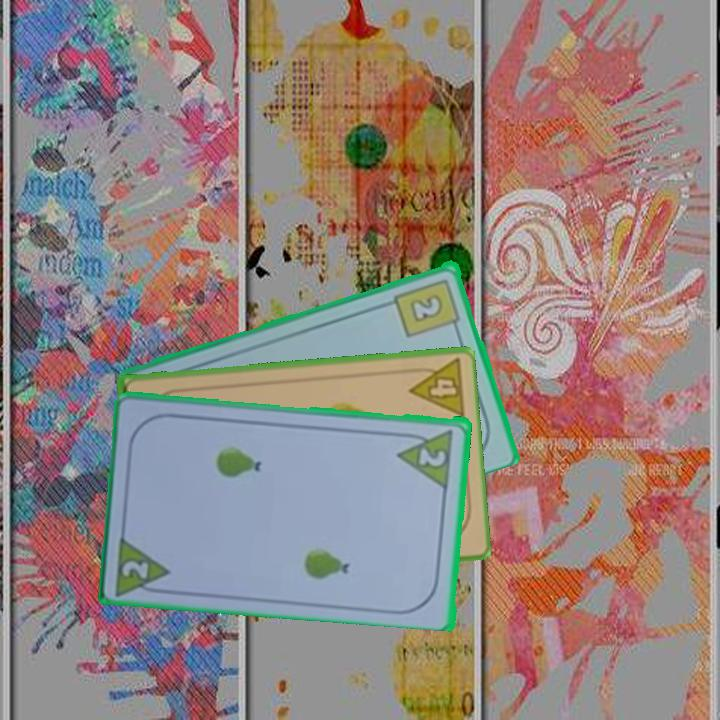2b: (391, 274, 464, 340)
2p: (395, 425, 456, 489), (118, 556, 152, 582)
4p: (402, 355, 467, 420)
